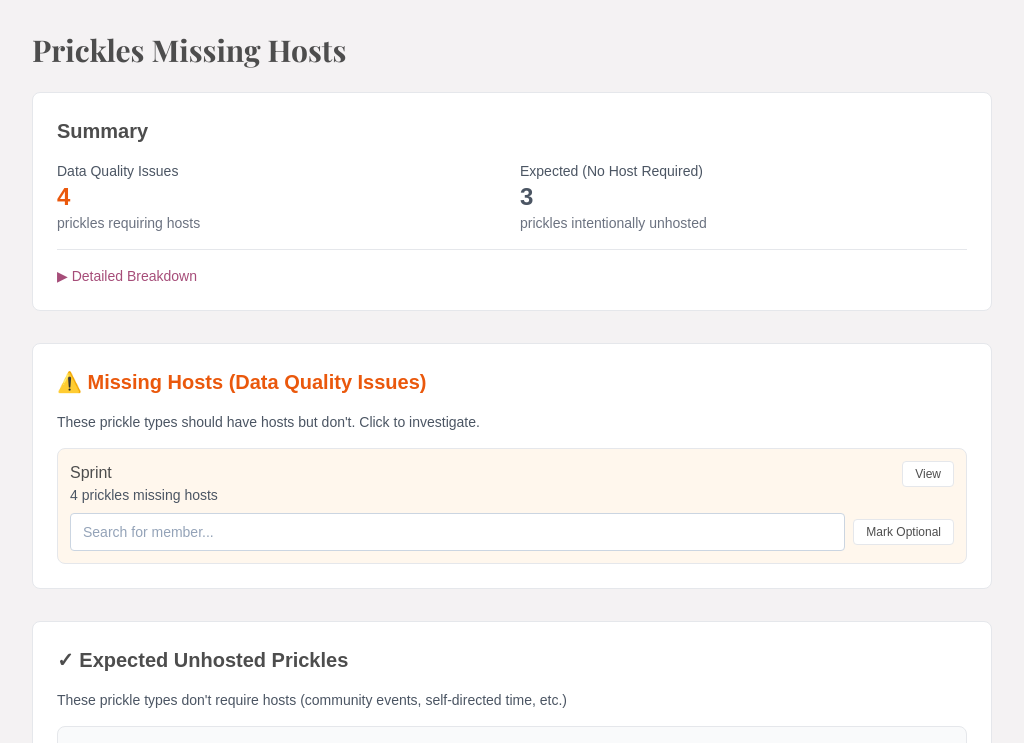
MissingHostsClient › opens the detailed breakdown of every calendar prickle
Click the button "▶ Detailed Breakdown". click: (127, 276)
box: [57,266,197,286]
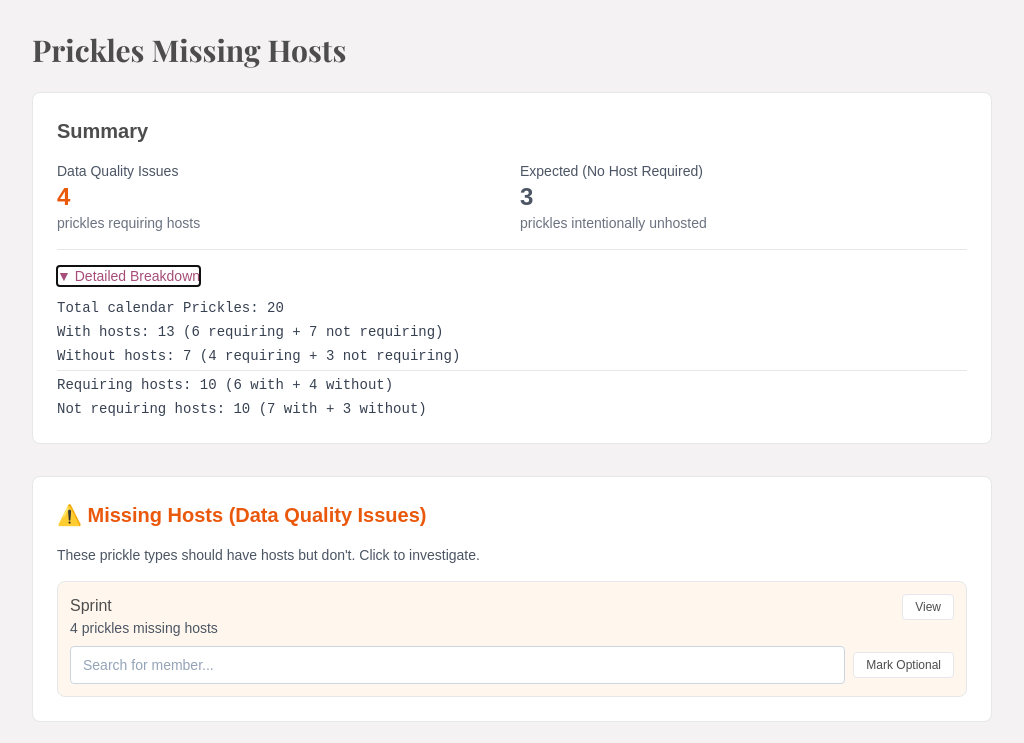
Expected: the text "Total calendar Prickles: 20" is shown, [57,300,284,316]
Expected: the text "With hosts: 13 (6 requiring + 7 not requiring)" is shown, [57,324,444,340]
Expected: the text "Without hosts: 7 (4 requiring + 3 not requiring)" is shown, [57,348,460,364]
